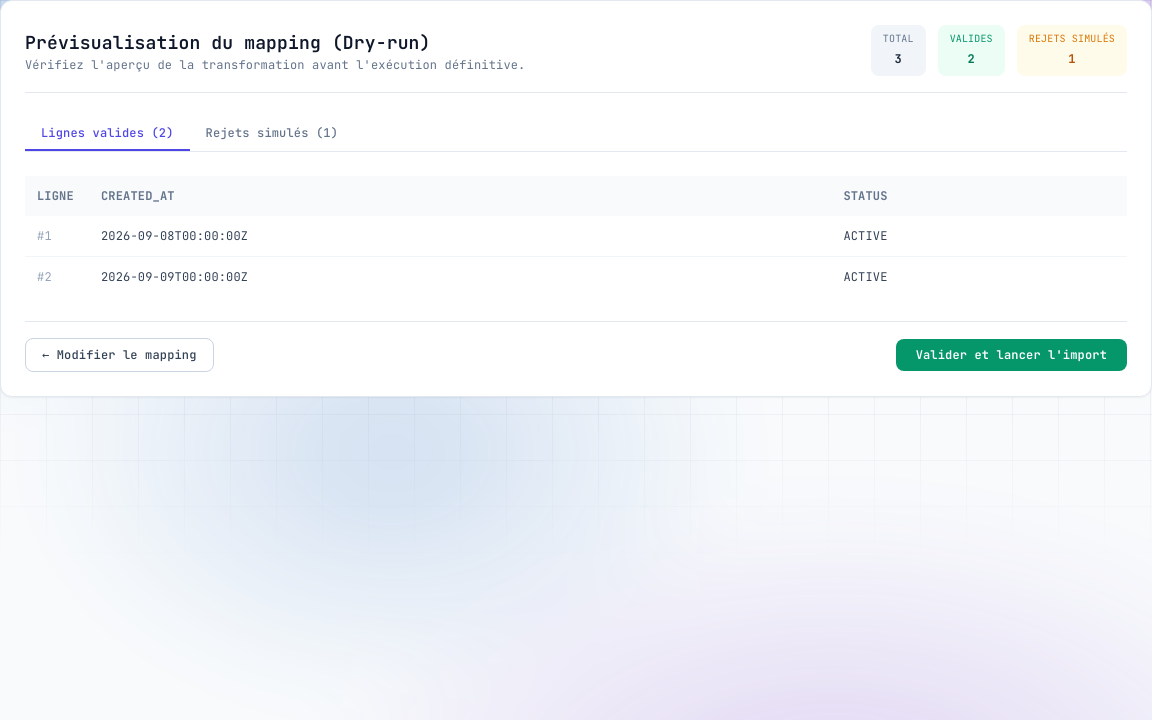
Test: MappingPreview UI (I5.7 Dry-Run) › bascule sur l'onglet des rejets simulés
Click the button "Rejets simulés (1)": (272, 134) [190,117,354,151]
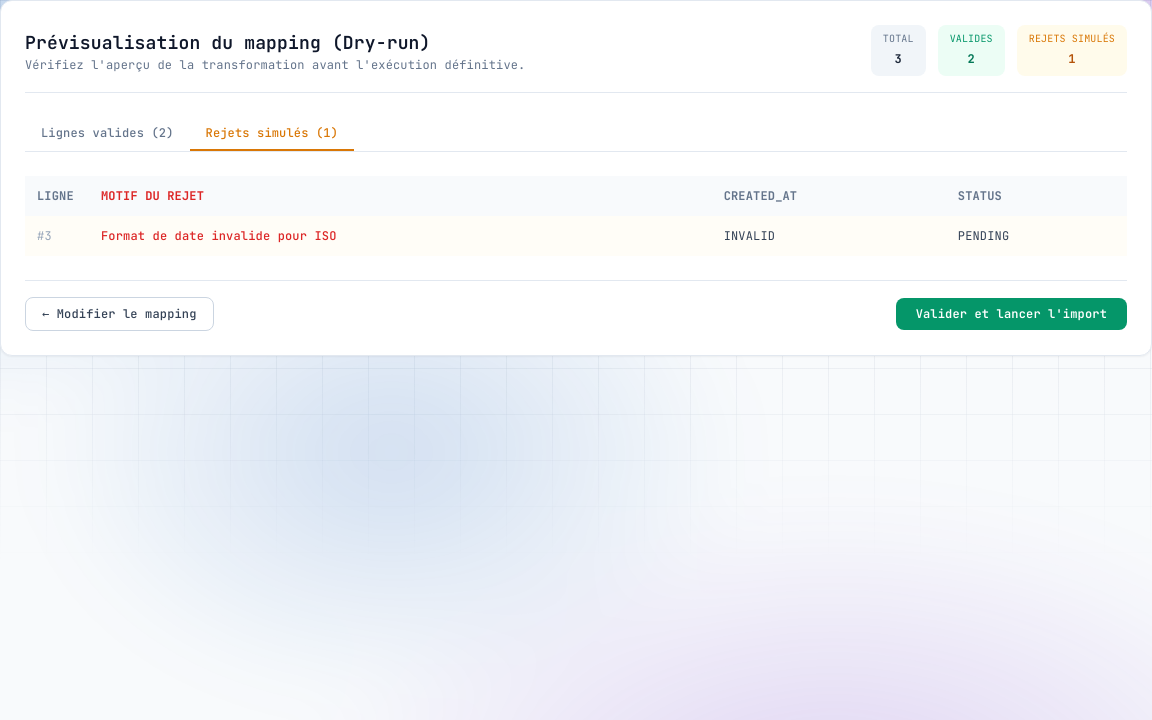
Result: the text "Format de date invalide pour ISO" is shown at [89,216,712,256]
Result: the text "#3" is shown at [25,216,89,256]
